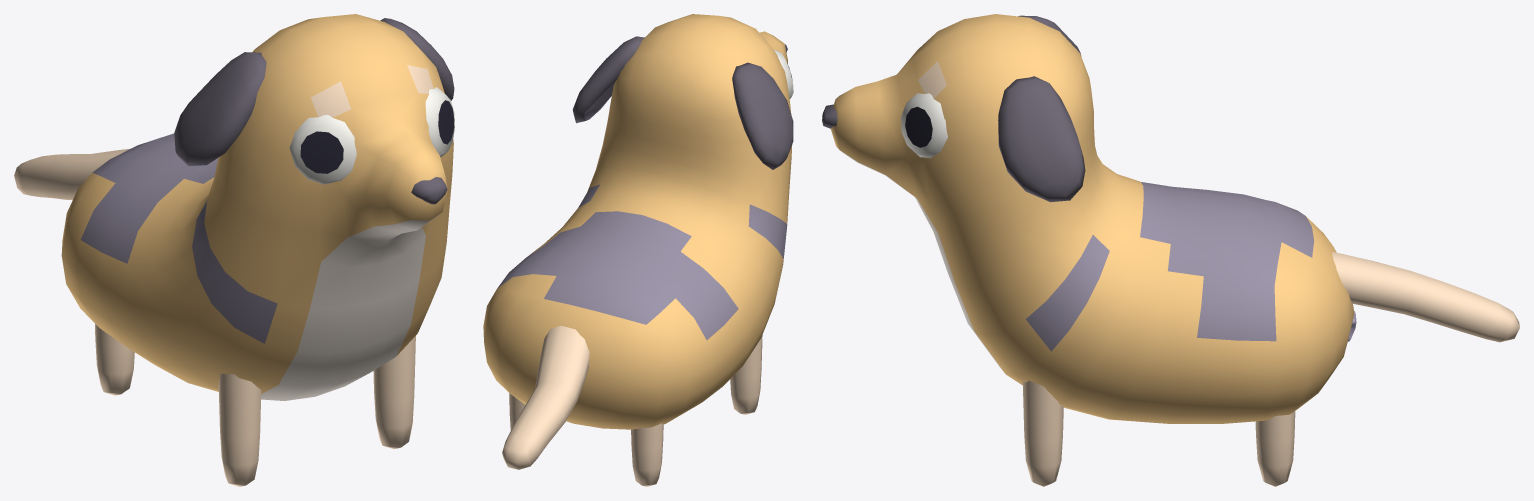
Rendered from Dog_LOD1.obj.
The picture shows the model from 3 angles, left to right: view 1: azimuth 30°, elevation 25°; view 2: azimuth 150°, elevation 25°; view 3: azimuth 270°, elevation 25°; orthographic projection. The views are drawn at different scales.
Visible parts, largest first — view 1: Dog_Cube.003; view 2: Dog_Cube.003; view 3: Dog_Cube.003.
Boxes of the visible parts, x1,y1,x2,y2 form: Dog_Cube.003: (14,14,454,486); Dog_Cube.003: (483,14,793,486); Dog_Cube.003: (822,14,1519,486).
Bounding box in the file's own units: 1.28 × 2.05 × 3.02.
